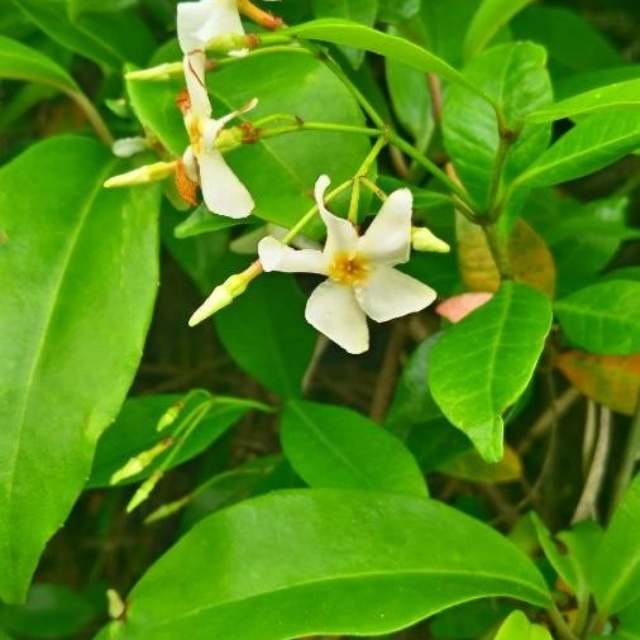obstacle: (14, 42, 603, 627)
